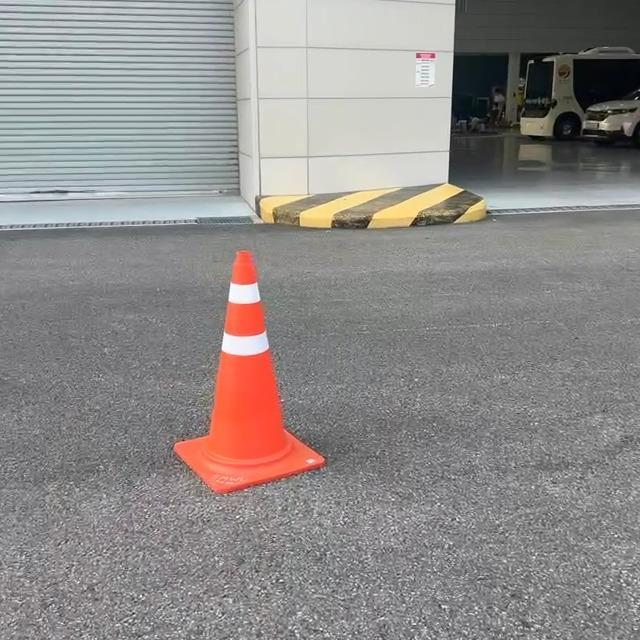fallen_object: (166, 222, 348, 472)
